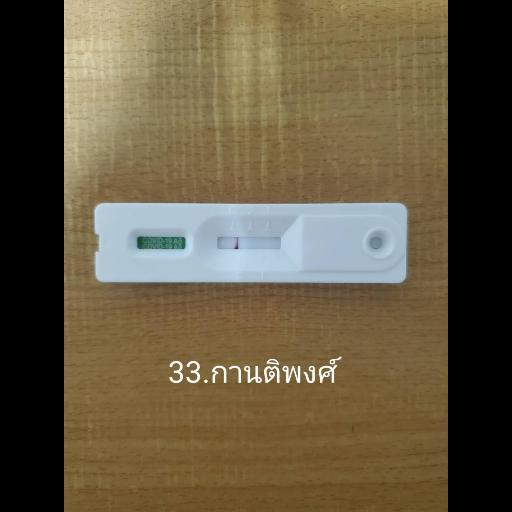Neg: (90, 204, 406, 280)
